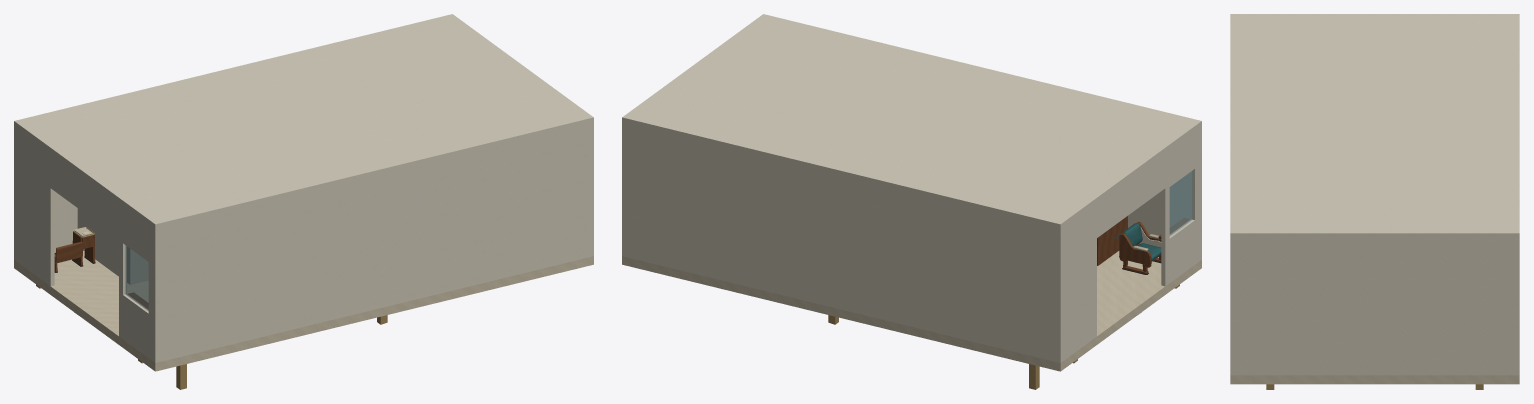
The model's file is NightGardenD15Specialty_452_r002.glb.
3 renders of one model, left to right at view 1: azimuth 30°, elevation 25°; view 2: azimuth 150°, elevation 25°; view 3: azimuth 270°, elevation 25°, orthographic. The views are drawn at different scales.
Visible parts, largest first — view 1: NG452_RuntimeBatch_001, NG452_RoomFloor, NG452_ScreenedStreetGlass, NG452_RuntimeBatch_013; view 2: NG452_RuntimeBatch_001, NG452_RoomFloor, NG452_ScreenedStreetGlass, NG452_RuntimeBatch_049, NG452_RuntimeBatch_002; view 3: NG452_RuntimeBatch_001, NG452_RoomFloor.
Part boxes in pixels (x1=…): NG452_RuntimeBatch_001: x1=14, y1=14, x2=593, y2=362; NG452_RoomFloor: x1=14, y1=250, x2=593, y2=371; NG452_ScreenedStreetGlass: x1=125, y1=245, x2=148, y2=310; NG452_RuntimeBatch_013: x1=54, y1=231, x2=95, y2=271; NG452_RuntimeBatch_001: x1=622, y1=14, x2=1201, y2=362; NG452_RoomFloor: x1=622, y1=251, x2=1201, y2=371; NG452_ScreenedStreetGlass: x1=1169, y1=171, x2=1192, y2=235; NG452_RuntimeBatch_049: x1=1119, y1=221, x2=1161, y2=274; NG452_RuntimeBatch_002: x1=1097, y1=216, x2=1190, y2=265; NG452_RuntimeBatch_001: x1=1230, y1=14, x2=1519, y2=375; NG452_RoomFloor: x1=1230, y1=375, x2=1519, y2=384.
Size of the model in its own units: 12.9 by 5.31 by 7.2.
Materials: 64 (49 with a texture image).
